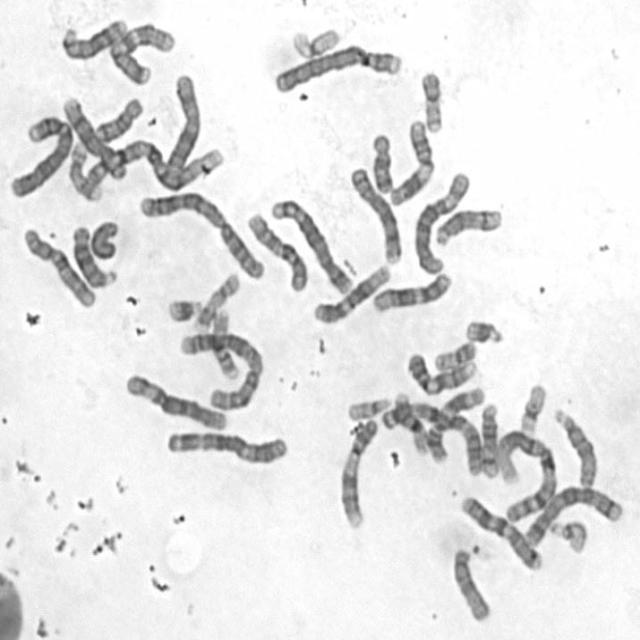A1: (80, 135, 228, 191), (492, 424, 560, 523)
A2: (133, 186, 268, 281), (174, 326, 265, 412)
A3: (382, 394, 483, 477), (162, 423, 291, 468)
B4: (269, 40, 404, 94), (5, 109, 76, 199)
B5: (267, 192, 355, 296), (519, 479, 627, 548)
C10: (20, 222, 99, 309), (244, 206, 312, 294)
C11: (423, 381, 487, 464), (385, 112, 437, 207)
C12: (310, 258, 394, 326), (368, 267, 454, 314)
C6: (121, 367, 230, 433), (409, 166, 473, 277)
C7: (457, 492, 544, 572), (104, 15, 178, 86)
C8: (58, 92, 132, 182), (346, 162, 404, 265)
C9: (336, 414, 381, 531), (402, 346, 480, 396)
D13: (57, 12, 130, 62), (68, 220, 120, 289)
D14: (430, 201, 504, 248), (476, 396, 501, 479)
D15: (550, 402, 600, 490), (448, 542, 495, 624)
E16: (391, 387, 432, 456), (207, 305, 240, 381)
E17: (190, 268, 242, 330), (64, 136, 104, 202)
E18: (90, 91, 145, 144), (367, 128, 396, 195)
F19: (286, 21, 343, 61), (516, 378, 548, 434)
F20: (416, 64, 447, 134), (430, 336, 479, 372)
G21: (461, 314, 507, 346), (163, 292, 205, 324)
G22: (546, 513, 590, 555), (344, 391, 394, 421)
X: (160, 68, 203, 175)
Y: (87, 215, 121, 261)
